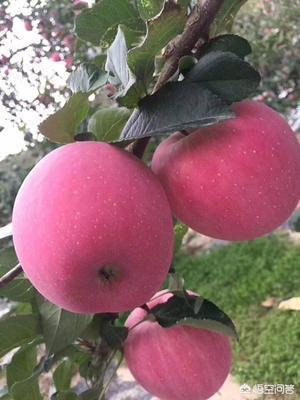apple: (11, 140, 174, 313), (153, 102, 300, 243), (121, 291, 236, 399)
